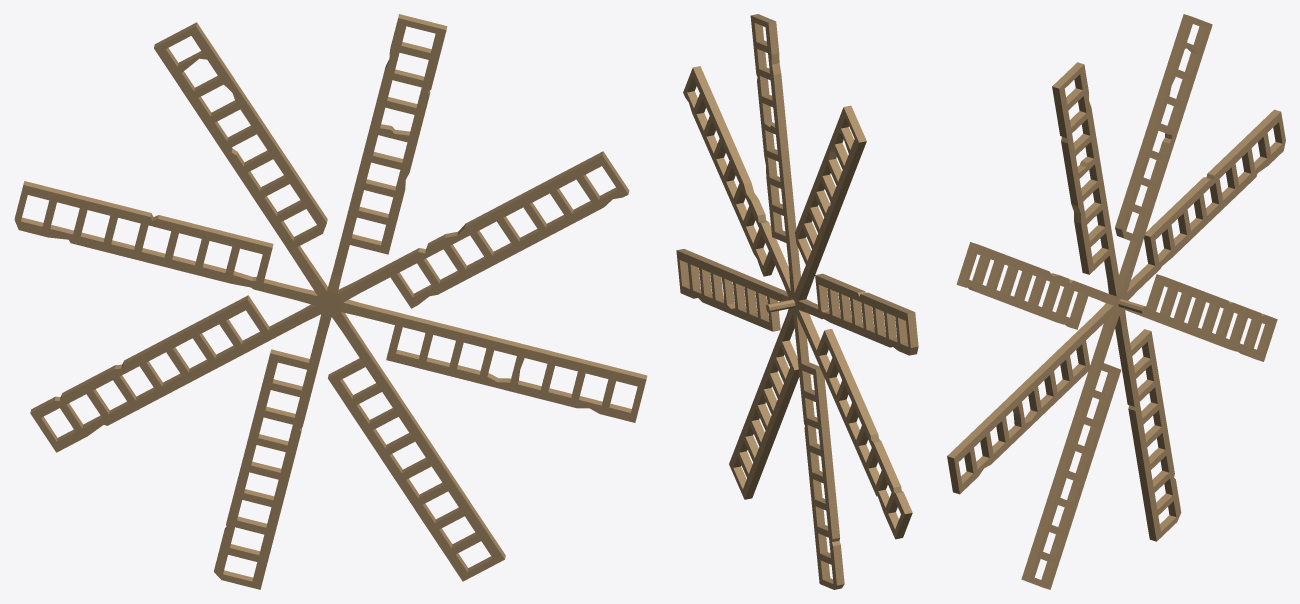
The model's file is towerwindmill_blades.glb.
3 views of the same model, side by side, from view 1: azimuth 30°, elevation 25°; view 2: azimuth 150°, elevation 25°; view 3: azimuth 270°, elevation 25° (orthographic). The views are drawn at different scales.
Visible parts, largest first — view 1: TowerWindmill_Blades; view 2: TowerWindmill_Blades; view 3: TowerWindmill_Blades.
Boxes of the visible parts, left/top/right/bottom form: TowerWindmill_Blades: left=14, top=14, right=647, bottom=589; TowerWindmill_Blades: left=676, top=14, right=918, bottom=589; TowerWindmill_Blades: left=947, top=14, right=1285, bottom=589.
Size of the model in its own units: 6.52 by 7.95 by 4.7.
